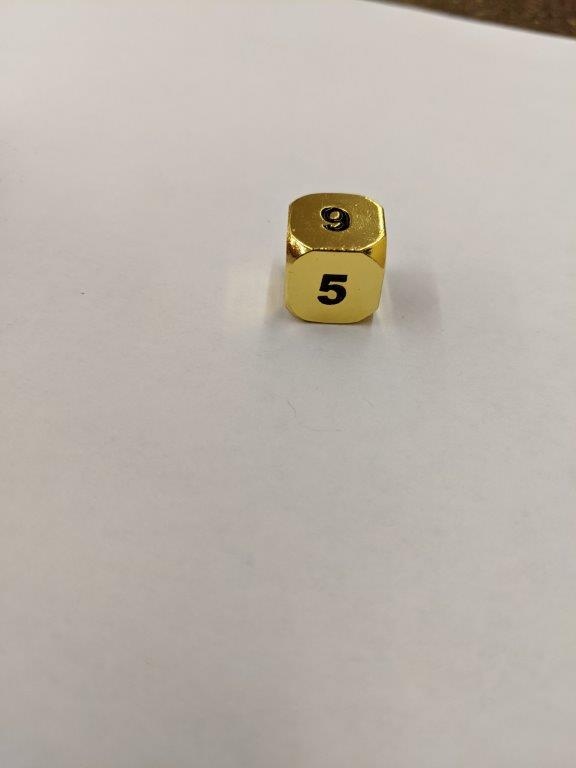d6-6: (286, 190, 386, 335)
